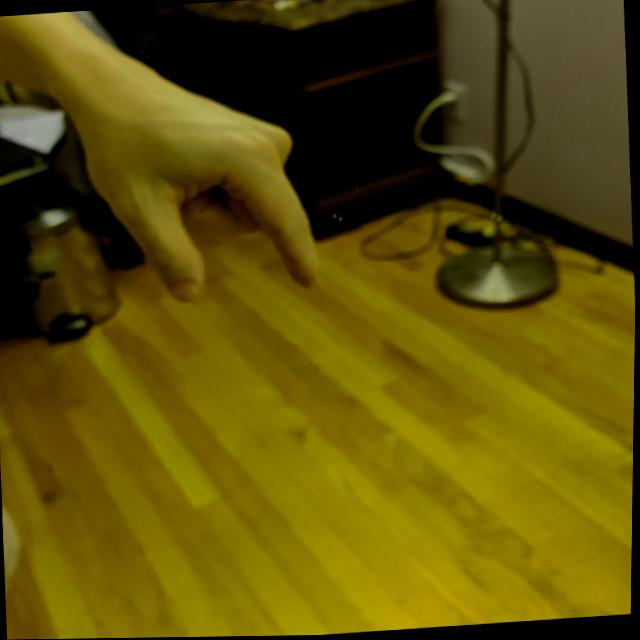Q: (68, 59, 341, 319)
